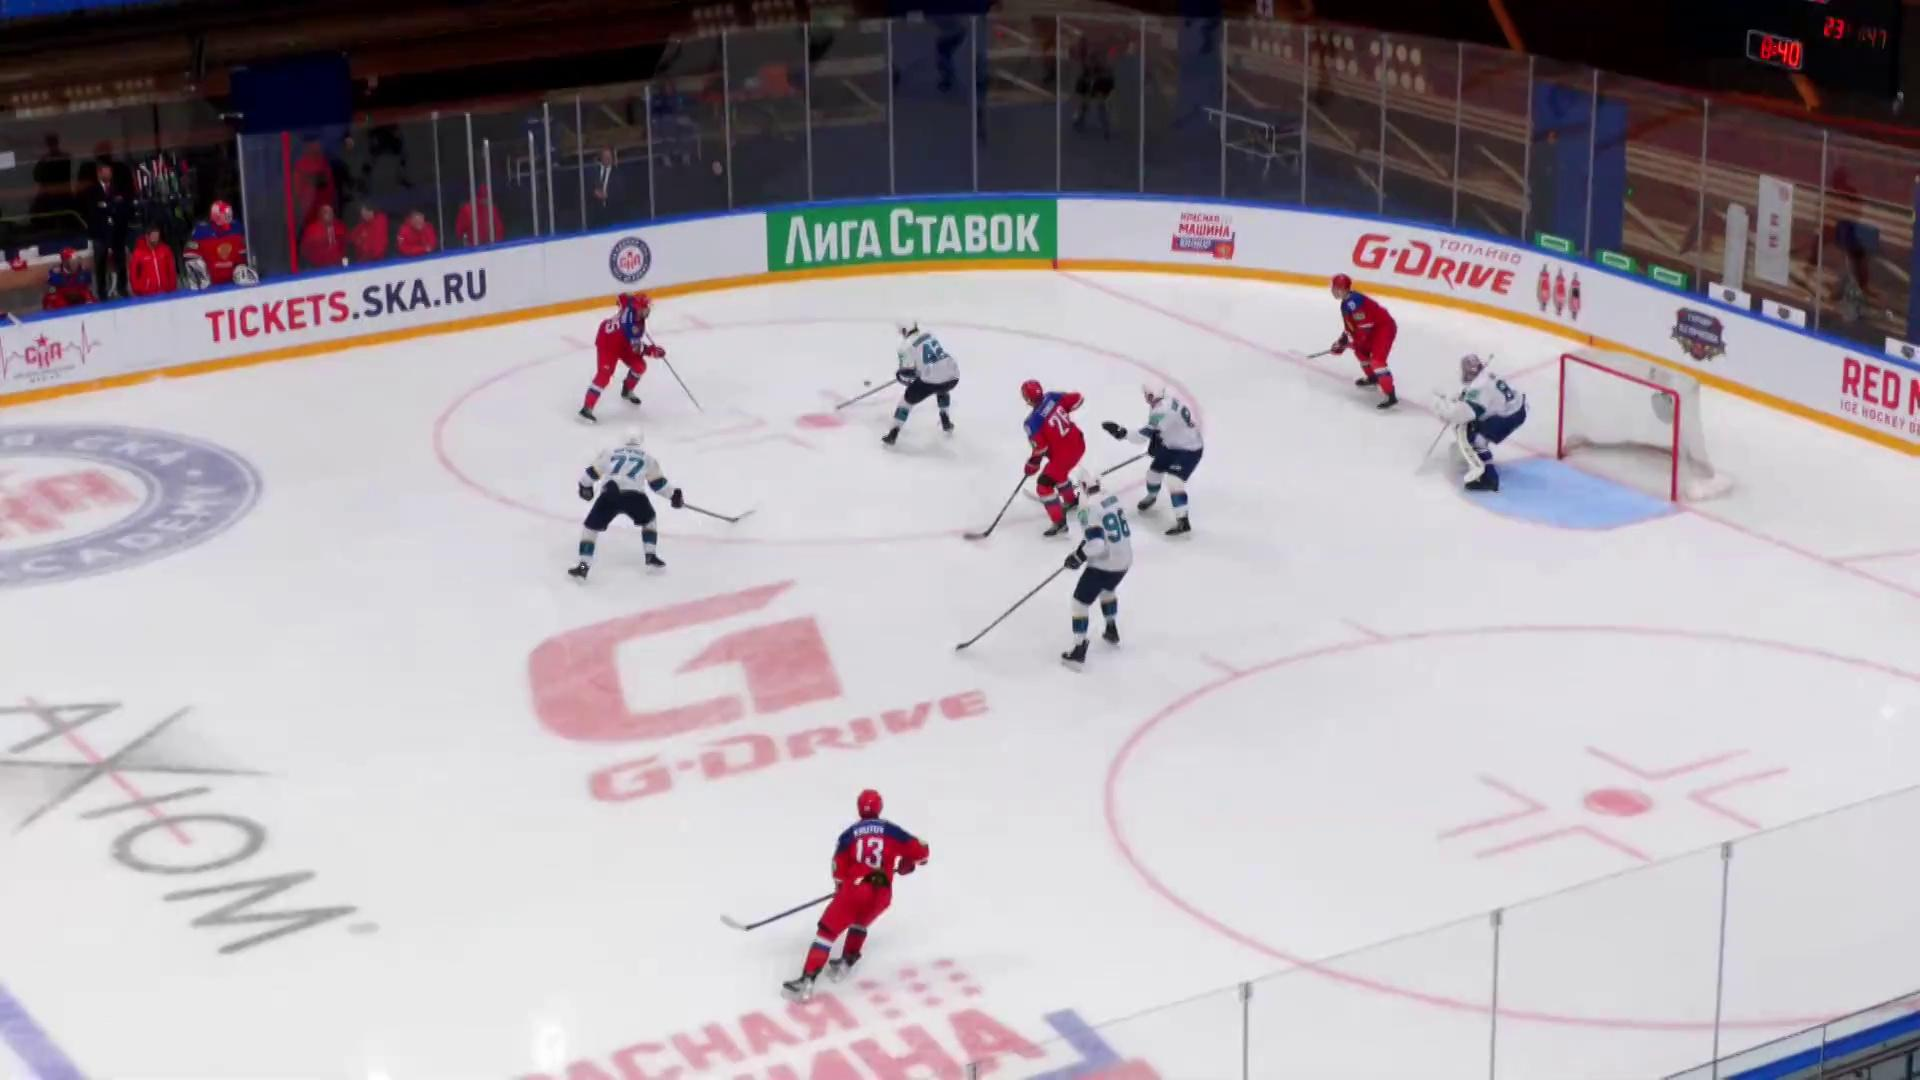ball: (864, 381, 873, 388)
